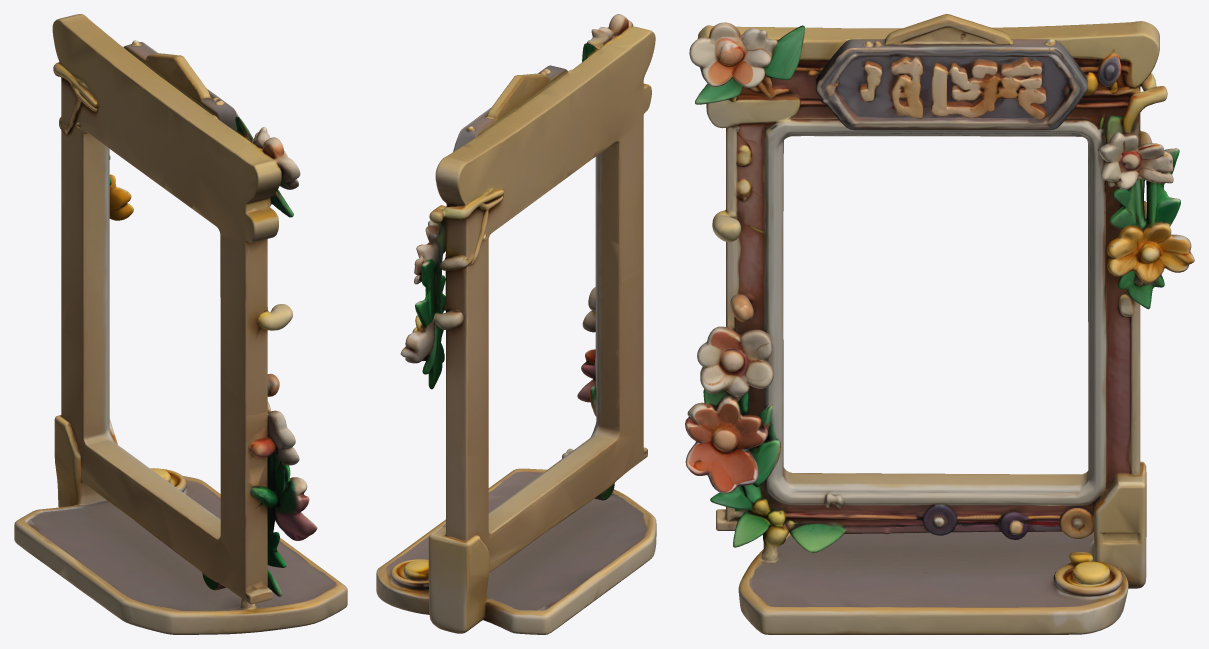
Rendered from plaza-photo-spot.glb.
3 views of the same model, side by side, from view 1: azimuth 30°, elevation 25°; view 2: azimuth 150°, elevation 25°; view 3: azimuth 270°, elevation 25° (orthographic). The views are drawn at different scales.
Visible parts, largest first — view 1: tripo_node_ad1bc034-eb2d-482d-9d2a-1d93462cd67c; view 2: tripo_node_ad1bc034-eb2d-482d-9d2a-1d93462cd67c; view 3: tripo_node_ad1bc034-eb2d-482d-9d2a-1d93462cd67c.
Part boxes in pixels (left/top/right/bottom): tripo_node_ad1bc034-eb2d-482d-9d2a-1d93462cd67c: left=14, top=14, right=347, bottom=634; tripo_node_ad1bc034-eb2d-482d-9d2a-1d93462cd67c: left=376, top=14, right=656, bottom=634; tripo_node_ad1bc034-eb2d-482d-9d2a-1d93462cd67c: left=685, top=14, right=1194, bottom=634.
Bounding box in the file's own units: 1.13 × 3 × 2.41.
1 material, 1 textured.
